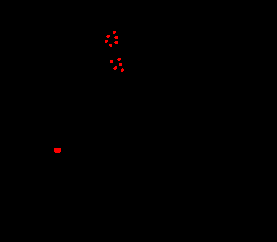Target: (54, 148, 61, 153), (113, 66, 117, 70), (106, 35, 110, 38), (114, 36, 118, 39), (114, 41, 118, 44), (117, 58, 121, 61), (121, 68, 124, 72), (113, 31, 116, 34), (105, 40, 108, 43), (109, 44, 112, 47), (110, 60, 113, 63), (119, 63, 122, 66)
